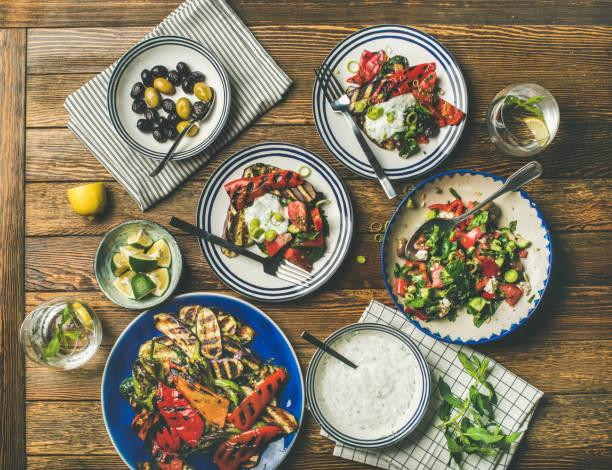Braised Crucian Carp: (104, 292, 305, 465), (378, 168, 562, 353), (196, 141, 349, 300), (312, 26, 466, 174), (107, 36, 230, 161)
